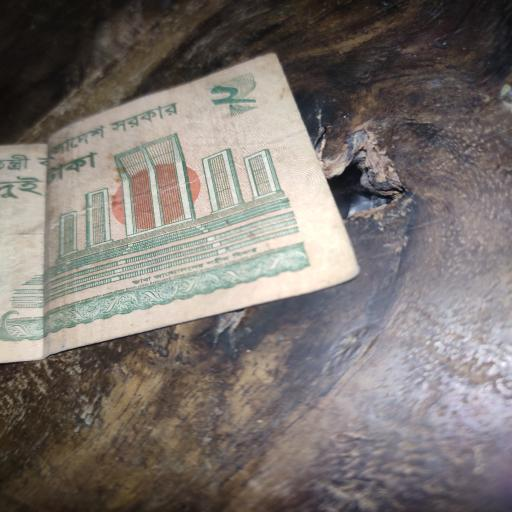2taka: (0, 50, 360, 360)
